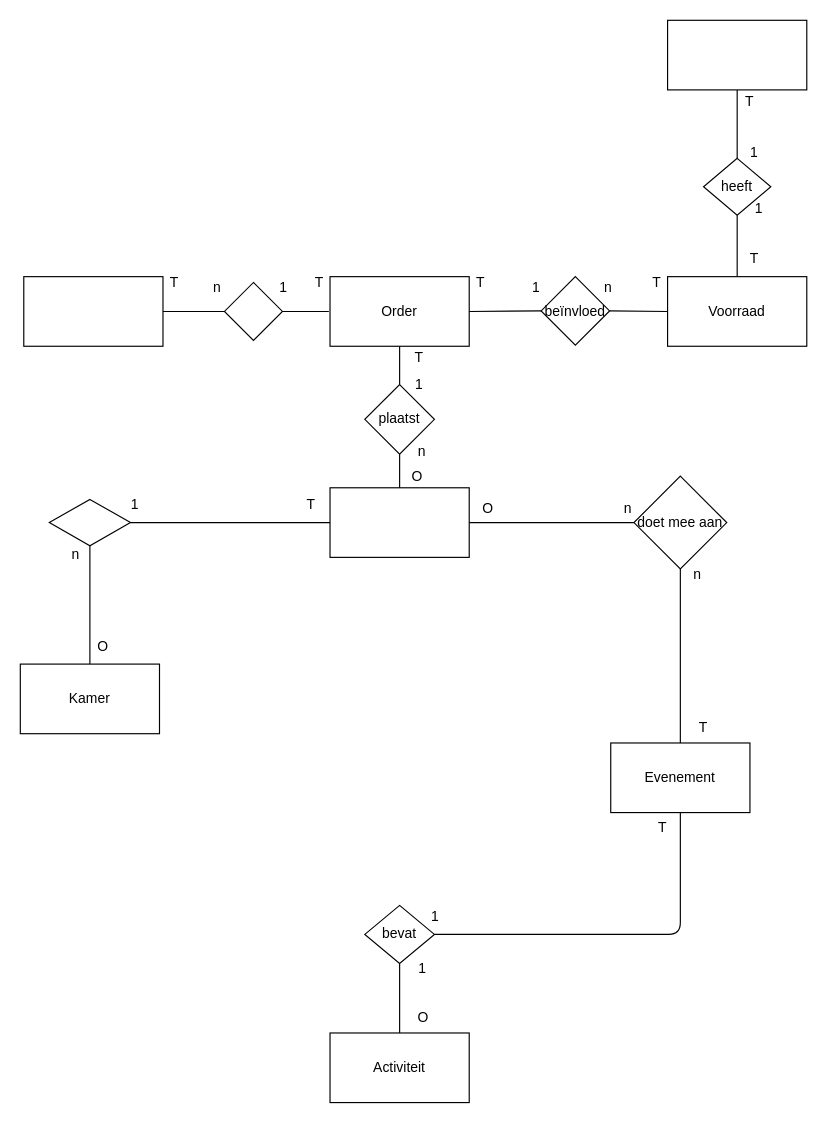
This 827x1123 diagram has some shape labels left out. The shapes that lost their labels are listed below. From the top down, each one's centre as x and y in pixels, then its label:
At pixel 736 54: "BTW".
At pixel 93 311: "Omzet".
At pixel 252 310: "geeft".
At pixel 89 522: "slaapt in".
At pixel 399 522: "Persoon".
